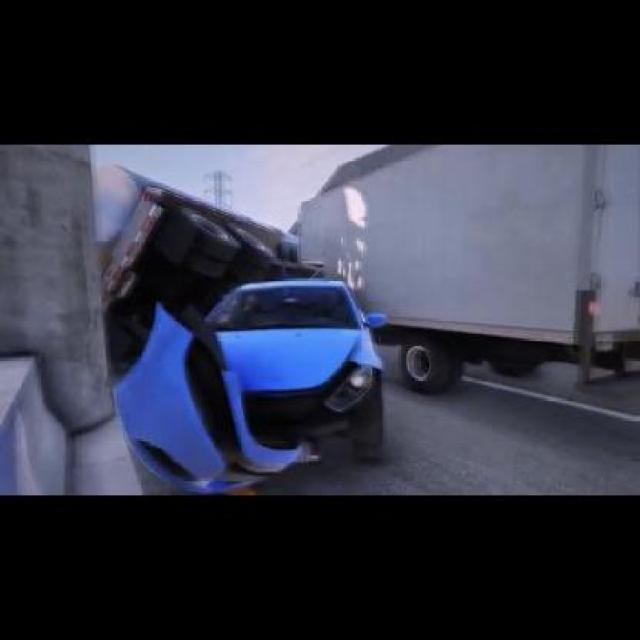accident: (54, 144, 638, 487)
